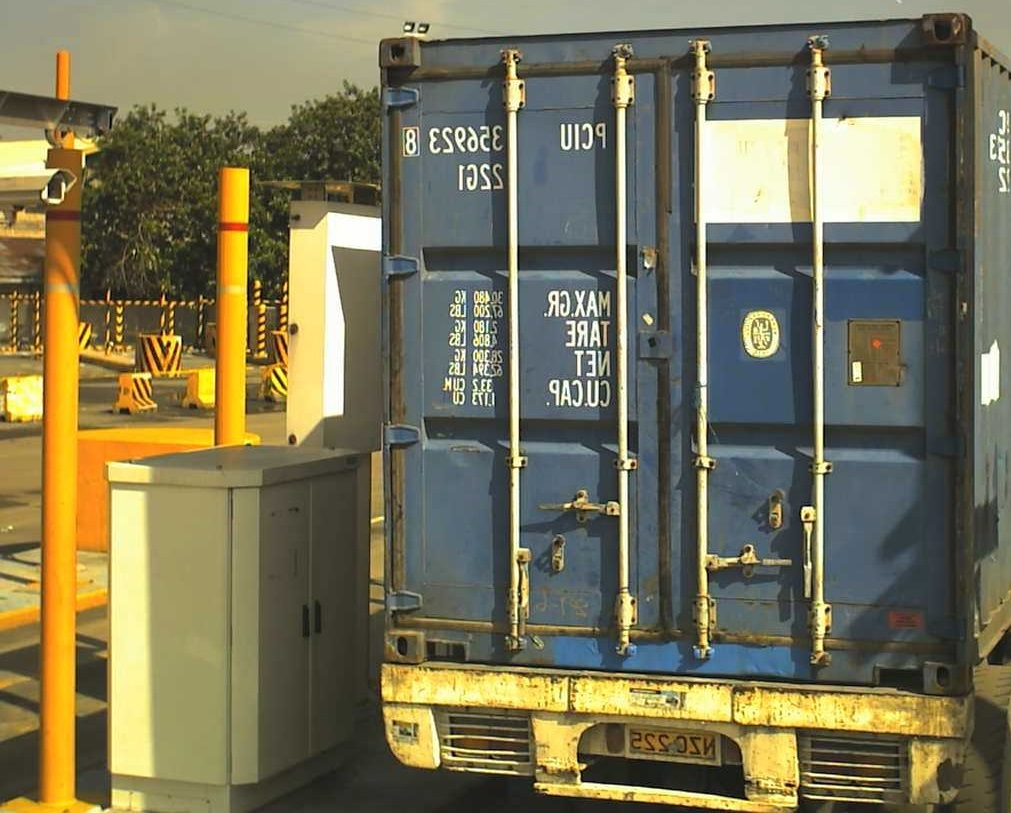container_door: (374, 16, 967, 692)
